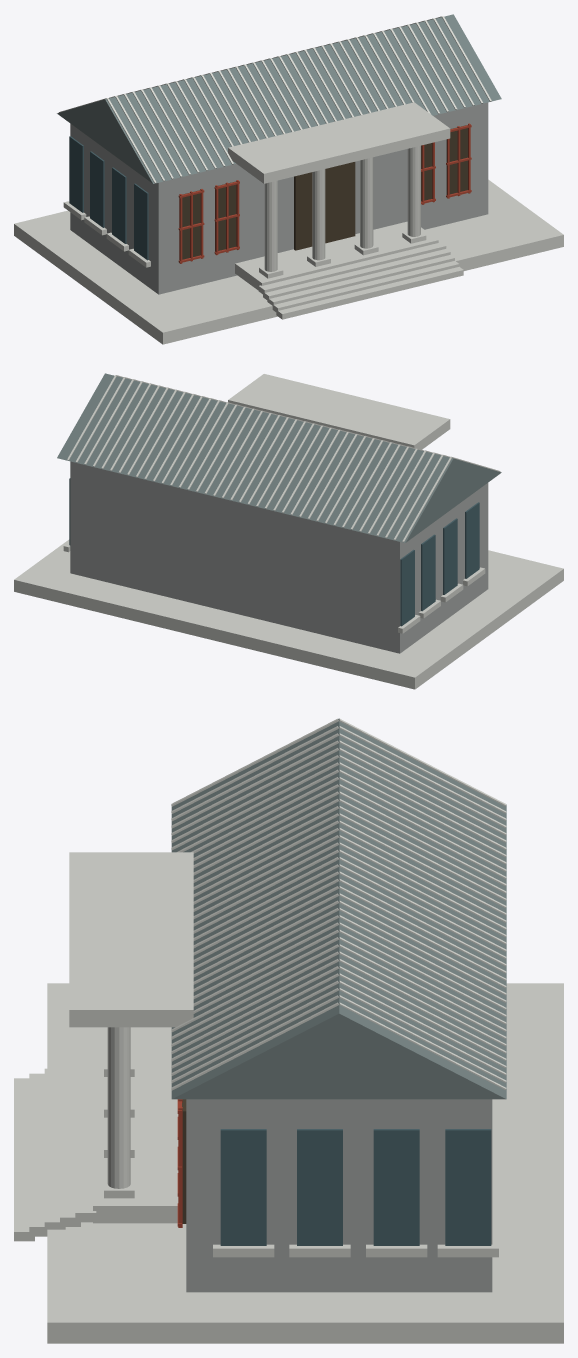
File: nanjing_surrender.glb
3 views of the same model, one above another, from view 1: azimuth 30°, elevation 25°; view 2: azimuth 150°, elevation 25°; view 3: azimuth 270°, elevation 25° (orthographic). The views are drawn at different scales.
Parts seen in each view (by area): view 1: pitched slate roof, brick auditorium body, limestone foundation, stone portico cornice, stone entry portico floor, timber double doors, auditorium front steps.004, auditorium front steps, auditorium front steps.001, auditorium front steps.002, auditorium front steps.003, stone entrance column.002 (+11 smaller); view 2: brick auditorium body, pitched slate roof, limestone foundation, stone portico cornice, tall side window glass.001, tall side window glass, tall side window glass.002, tall side window glass.003; view 3: pitched slate roof, limestone foundation, brick auditorium body, stone portico cornice, stone entry portico floor, tall side window glass.004, tall side window glass.006, tall side window glass.007, tall side window glass.005, stone entrance column.003, auditorium front steps, auditorium front steps.004 (+7 smaller).
Part boxes in pixels (bbox=[...]): pitched slate roof: bbox=[57, 14, 501, 183]; brick auditorium body: bbox=[70, 102, 488, 294]; limestone foundation: bbox=[14, 179, 563, 344]; stone portico cornice: bbox=[228, 102, 450, 183]; stone entry portico floor: bbox=[235, 221, 438, 290]; timber double doors: bbox=[294, 162, 355, 250]; auditorium front steps.004: bbox=[276, 266, 463, 319]; auditorium front steps: bbox=[258, 241, 446, 294]; auditorium front steps.001: bbox=[263, 249, 450, 300]; auditorium front steps.002: bbox=[267, 255, 454, 307]; auditorium front steps.003: bbox=[272, 261, 459, 311]; stone entrance column.002: bbox=[360, 157, 373, 248]; brick auditorium body: bbox=[70, 461, 488, 653]; pitched slate roof: bbox=[57, 373, 501, 542]; limestone foundation: bbox=[14, 539, 563, 689]; stone portico cornice: bbox=[228, 374, 450, 449]; tall side window glass.001: bbox=[443, 518, 457, 594]; tall side window glass: bbox=[465, 502, 479, 578]; tall side window glass.002: bbox=[421, 534, 435, 611]; tall side window glass.003: bbox=[400, 549, 414, 626]; pitched slate roof: bbox=[171, 718, 506, 1099]; limestone foundation: bbox=[47, 983, 563, 1343]; brick auditorium body: bbox=[186, 1099, 492, 1292]; stone portico cornice: bbox=[69, 852, 193, 1027]; stone entry portico floor: bbox=[93, 1056, 178, 1223]; tall side window glass.004: bbox=[220, 1129, 266, 1245]; tall side window glass.006: bbox=[373, 1129, 419, 1245]; tall side window glass.007: bbox=[445, 1129, 491, 1245]; tall side window glass.005: bbox=[297, 1129, 342, 1245]; stone entrance column.003: bbox=[107, 1027, 130, 1188]; auditorium front steps: bbox=[75, 1059, 96, 1222]; auditorium front steps.004: bbox=[14, 1078, 34, 1241].
Size of the model in its own units: 8.4 by 3.56 by 5.75.
